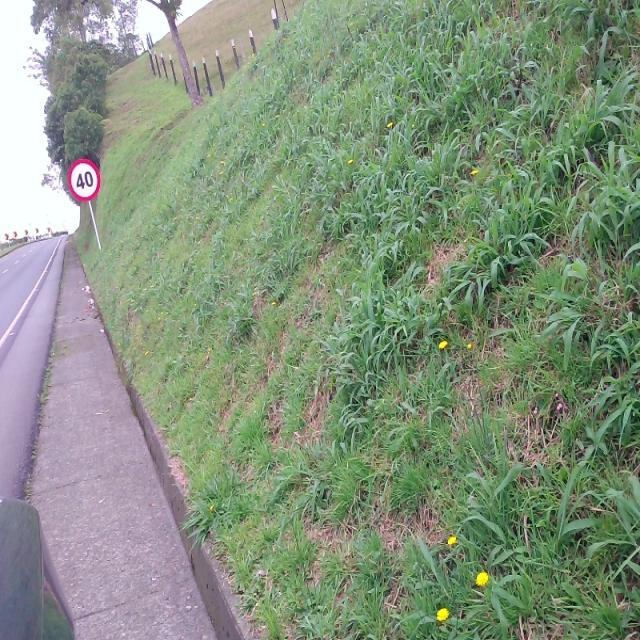DITCH: (30, 230, 264, 639), (17, 233, 253, 638)
